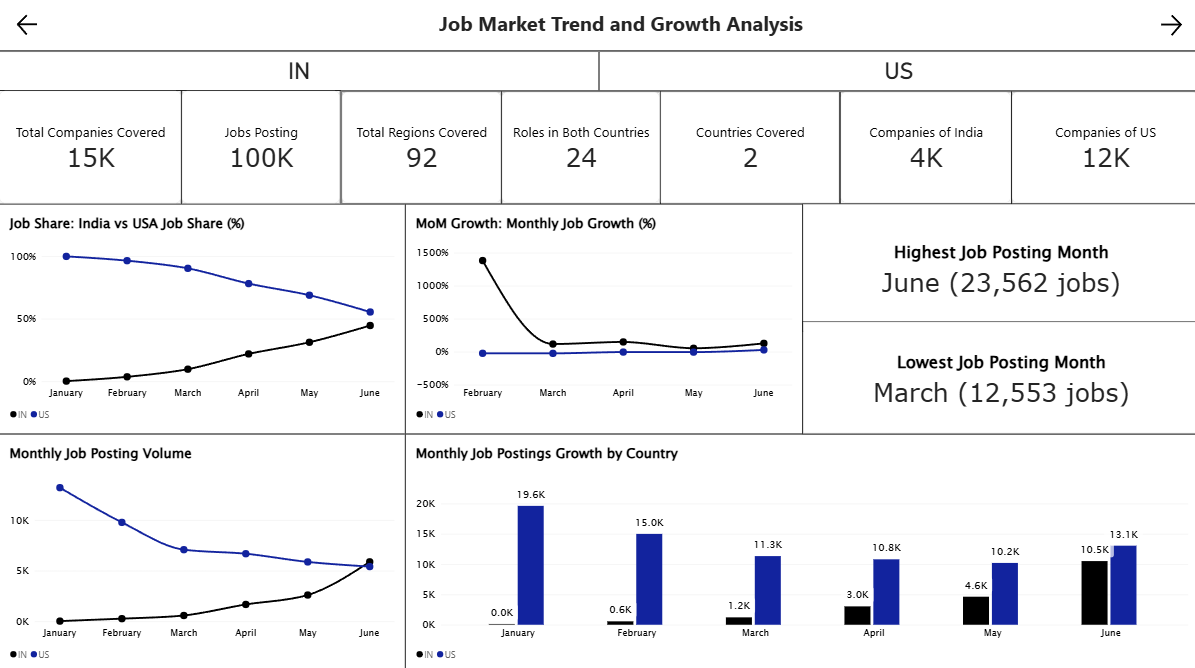

The dashboard page shown, as its layout file describes it:
{"tool":"powerbi","page":{"name":"Job Market Trend and Growth Analysis","canvas":[1920,1080],"ordinal":2},"visuals":[{"type":"shape","box":[0,0,1920.1,83.2],"z":0},{"type":"advancedSlicerVisual","title":"Choose Country","fields":{"Values":["Dim_Location.country"]},"box":[0,83.2,1920.1,63.3],"z":1000},{"type":"actionButton","box":[0,0,90.5,83.2],"z":2000},{"type":"textbox","box":[703.6,16.4,601.8,50.9],"z":3000},{"type":"cardVisual","fields":{"Data":["measure.Total No. of Companies"]},"box":[0,146.6,291.4,179.2],"z":4000},{"type":"cardVisual","fields":{"Data":["measure.Total Jobs"]},"box":[291.4,146.6,255.2,179.2],"z":5000},{"type":"cardVisual","fields":{"Data":["measure.Total Locations"]},"box":[547.3,147.3,256.4,180],"z":6000},{"type":"cardVisual","fields":{"Data":["measure.Companies_India"]},"box":[1345.5,147.3,274.5,180],"z":7000},{"type":"cardVisual","fields":{"Data":["measure.Companies in US"]},"box":[1620,147.3,300,180],"z":8000},{"type":"cardVisual","fields":{"Data":["measure.Roles"]},"box":[803.6,147.3,254.5,180],"z":9000},{"type":"cardVisual","fields":{"Data":["measure.Total Country"]},"box":[1058.2,147.3,287.3,180],"z":10000},{"type":"actionButton","box":[1829.1,0,90.5,83.2],"z":16000},{"type":"lineChart","title":"Job Share: India vs USA Job Share (%)","fields":{"Category":["Dim_Date.Month name"],"Series":["Dim_Location.country"],"Y":["measure.Job Market Share %"]},"box":[0,327.3,669.1,409.1],"z":16003},{"type":"lineChart","title":"MoM Growth: Monthly Job Growth (%)","fields":{"Category":["Dim_Date.Month name"],"Series":["Dim_Location.country"],"Y":["measure.MoM Job Growth %"]},"box":[669.1,327.3,636.4,409.1],"z":16004},{"type":"areaChart","title":"Monthly Job Postings by Country","fields":{"Category":["Dim_Date.Month name"],"Series":["Dim_JobRole.role"],"Y":["measure.Jobs Posting"]},"box":[607.3,532.7,614.5,409.1],"z":16005},{"type":"lineClusteredColumnComboChart","title":"Monthly Job Postings by Country","fields":{"Category":["Dim_Date.Month name"],"Series":["Dim_Location.country"],"Y":["measure.Jobs Posting"]},"box":[1305.5,327.3,614.5,409.1],"z":16006}]}

Visuals, with their boxes in screenshot pixels (x1, y1, x2, y2), scaled from the page's 1920x1080 canvas onto the 1195x668 screenshot:
shape: l=0, t=0, r=1194, b=51
"Choose Country" advancedSlicerVisual: l=0, t=51, r=1194, b=91
actionButton: l=0, t=0, r=56, b=51
textbox: l=438, t=10, r=812, b=42
cardVisual - measure.Total No. of Companies: l=0, t=91, r=181, b=202
cardVisual - measure.Total Jobs: l=181, t=91, r=340, b=202
cardVisual - measure.Total Locations: l=341, t=91, r=500, b=202
cardVisual - measure.Companies_India: l=837, t=91, r=1008, b=202
cardVisual - measure.Companies in US: l=1008, t=91, r=1194, b=202
cardVisual - measure.Roles: l=500, t=91, r=659, b=202
cardVisual - measure.Total Country: l=659, t=91, r=837, b=202
actionButton: l=1138, t=0, r=1194, b=51
"Job Share: India vs USA Job Share (%)" lineChart: l=0, t=202, r=416, b=455
"MoM Growth: Monthly Job Growth (%)" lineChart: l=416, t=202, r=813, b=455
"Monthly Job Postings by Country" areaChart: l=378, t=329, r=760, b=583
"Monthly Job Postings by Country" lineClusteredColumnComboChart: l=813, t=202, r=1194, b=455
